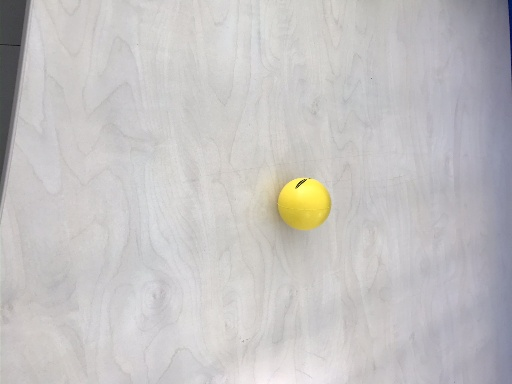Palla: (277, 176, 334, 231)
